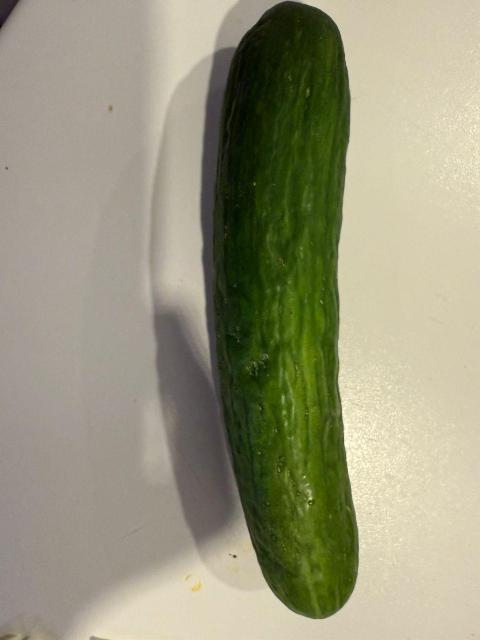Organik: (205, 4, 360, 628)
